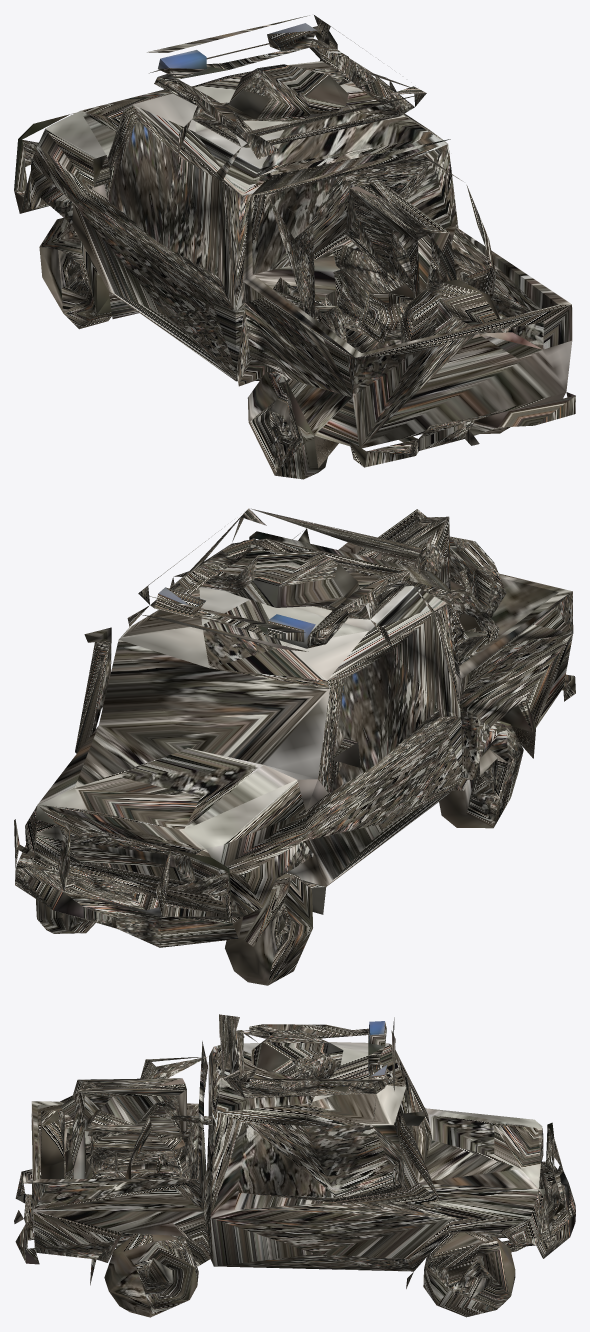
The model's file is emercom_pickup_17k.glb.
The picture shows the model from 3 angles, top to bottom: view 1: azimuth 30°, elevation 25°; view 2: azimuth 150°, elevation 25°; view 3: azimuth 270°, elevation 25°; orthographic projection. The views are drawn at different scales.
Parts seen in each view (by area): view 1: output_unwrapped; view 2: output_unwrapped; view 3: output_unwrapped.
Boxes of the visible parts, left/top/right/bottom form: output_unwrapped: left=14, top=15, right=575, bottom=479; output_unwrapped: left=14, top=508, right=575, bottom=985; output_unwrapped: left=14, top=1014, right=575, bottom=1317.
Size of the model in its own units: 2.23 by 2.4 by 5.27.
1 material, 1 textured.
